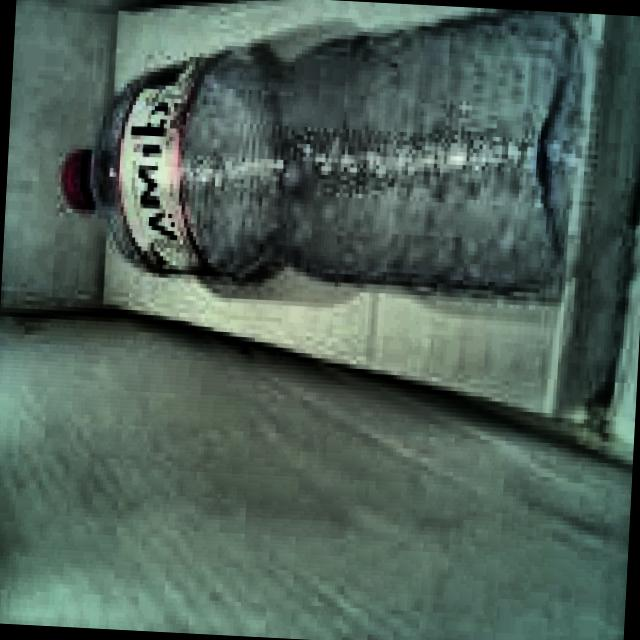plastic bottle: (64, 10, 579, 293)
